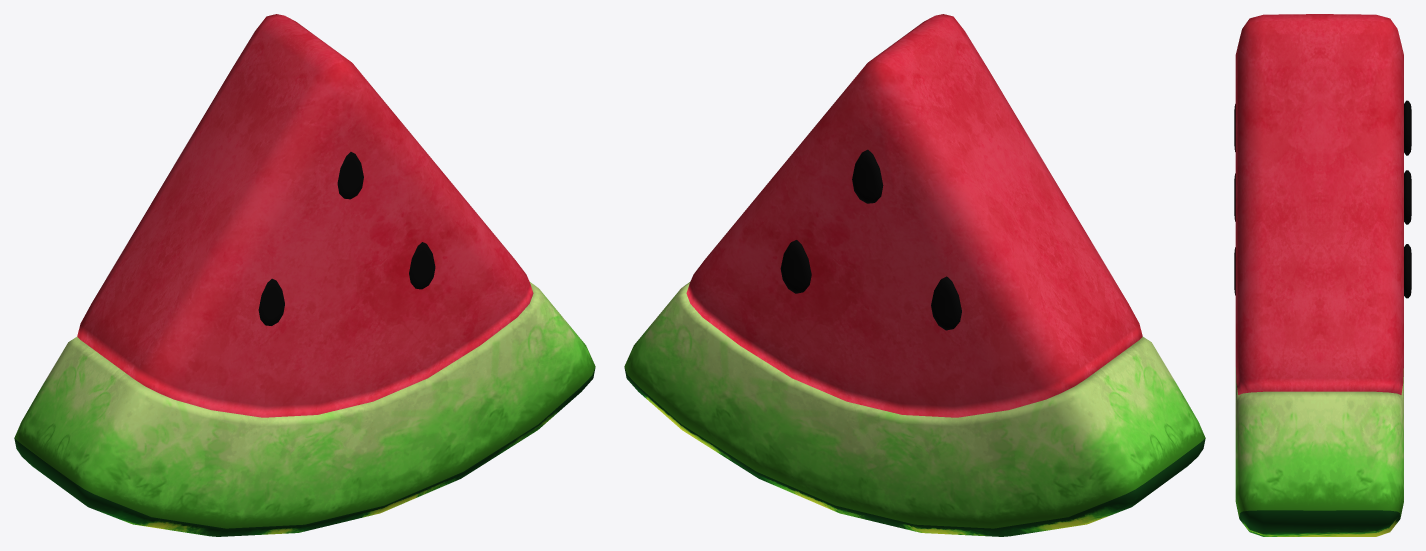
Rendered from Watermelon.fbx.
3 views of the same model, side by side, from view 1: azimuth 30°, elevation 25°; view 2: azimuth 150°, elevation 25°; view 3: azimuth 270°, elevation 25° (orthographic).
Parts seen in each view (by area): view 1: Watermelon; view 2: Watermelon; view 3: Watermelon.
Boxes of the visible parts, box(x1,y1,x2,y2) form: Watermelon: box(14, 14, 595, 536); Watermelon: box(624, 14, 1205, 536); Watermelon: box(1234, 14, 1411, 536).
Size of the model in its own units: 108 by 92.71 by 31.86.
1 material, 1 textured.
